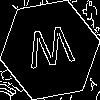W: (25, 25, 77, 78)
